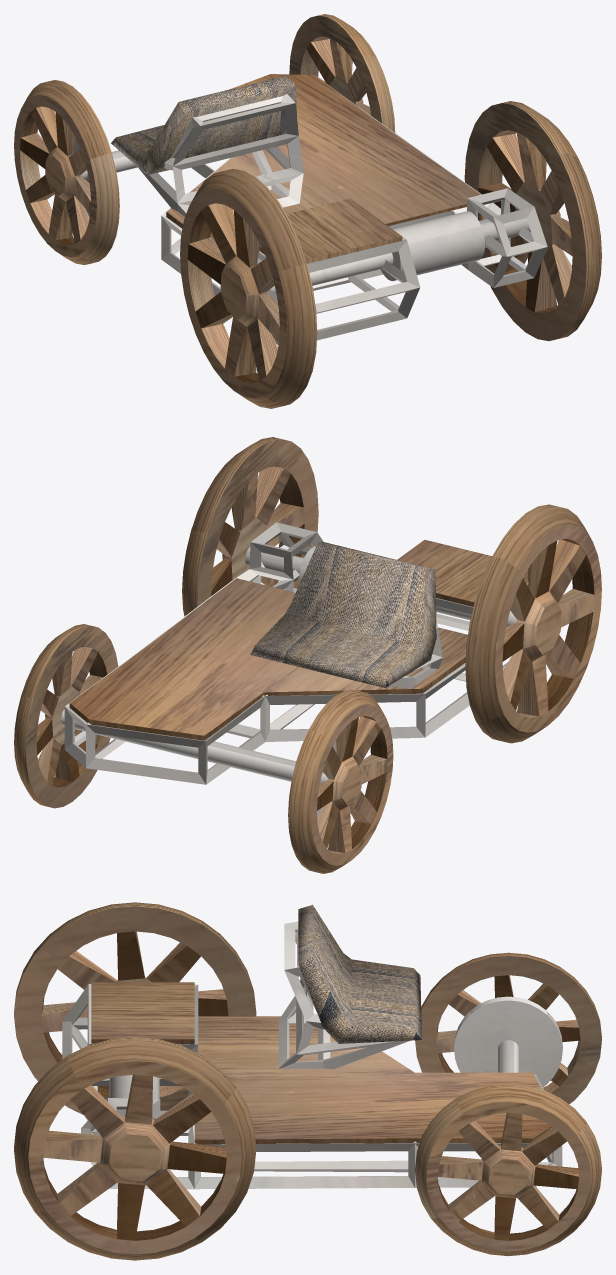
The model's file is Car.fbx.
3 renders of one model, top to bottom at view 1: azimuth 30°, elevation 25°; view 2: azimuth 150°, elevation 25°; view 3: azimuth 270°, elevation 25°, orthographic.
Parts seen in each view (by area): view 1: Wheel.001, Floor, Wheel.002, Wheel.004, Frame, Seat, SeatFrame, Wheel.003, RAxle; view 2: Floor, Wheel.001, Seat, Wheel.004, Frame, Wheel.002, Wheel.003, Faxle, RAxle, SeatFrame; view 3: Wheel.002, Floor, Wheel.003, Wheel.001, Wheel.004, Seat, Frame, Faxle, SeatFrame, RAxle.
Part boxes in pixels (x1,y1,x2,y2): Wheel.001: [180, 168, 317, 408]; Floor: [166, 74, 480, 263]; Wheel.002: [464, 101, 601, 341]; Wheel.004: [14, 80, 119, 264]; Frame: [161, 77, 547, 344]; Seat: [111, 75, 296, 175]; SeatFrame: [138, 94, 303, 216]; Wheel.003: [289, 14, 395, 132]; RAxle: [270, 211, 530, 293]; Floor: [69, 540, 528, 740]; Wheel.001: [465, 504, 601, 743]; Seat: [250, 542, 436, 687]; Wheel.004: [288, 689, 393, 873]; Frame: [64, 522, 528, 784]; Wheel.002: [182, 437, 318, 616]; Wheel.003: [14, 624, 118, 808]; Faxle: [61, 709, 336, 817]; RAxle: [245, 546, 516, 626]; SeatFrame: [388, 612, 442, 688]; Wheel.002: [14, 1037, 256, 1260]; Floor: [91, 982, 552, 1144]; Wheel.003: [415, 1083, 601, 1256]; Wheel.001: [14, 902, 256, 1114]; Wheel.004: [415, 952, 601, 1104]; Seat: [298, 904, 421, 1043]; Frame: [62, 984, 562, 1189]; Faxle: [454, 996, 562, 1086]; SeatFrame: [278, 921, 409, 1069]; RAxle: [109, 1075, 159, 1117].
Size of the model in its own units: 243 by 168 by 394.
